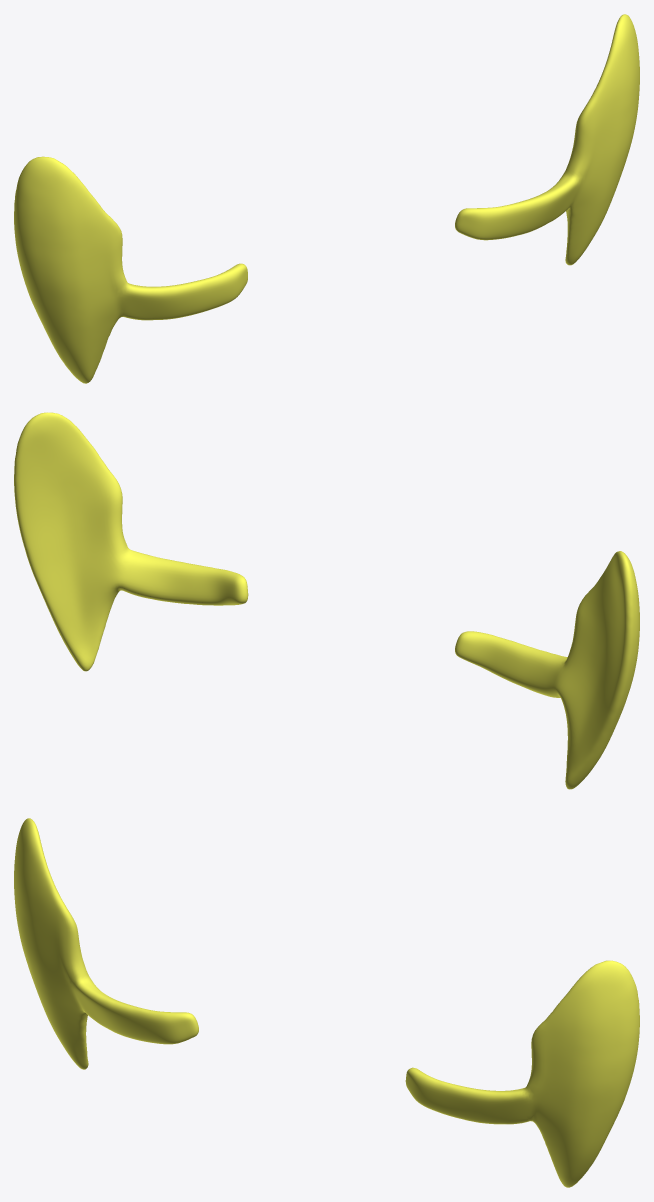
File: grillz-vamp-gold.glb
3 views of the same model, one above another, from view 1: azimuth 30°, elevation 25°; view 2: azimuth 150°, elevation 25°; view 3: azimuth 330°, elevation 25° (orthographic).
Visible parts, largest first — view 1: Mesh0; view 2: Mesh0; view 3: Mesh0.
Part boxes in pixels (x1,y1,x2,y2): Mesh0: [14, 14, 639, 383]; Mesh0: [14, 412, 639, 789]; Mesh0: [14, 818, 639, 1187].
Size of the model in its own units: 1.9 by 0.711 by 0.2092.
